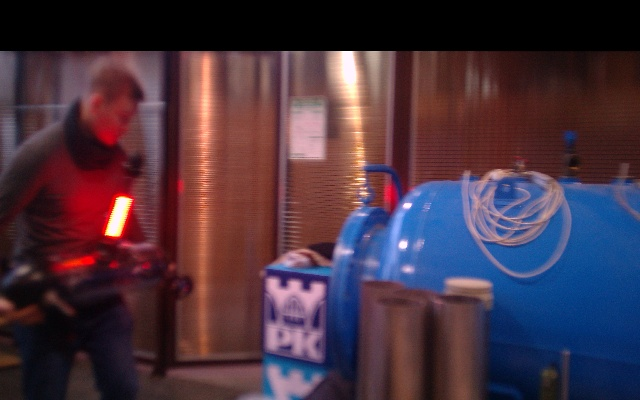red: (104, 195, 133, 241)
